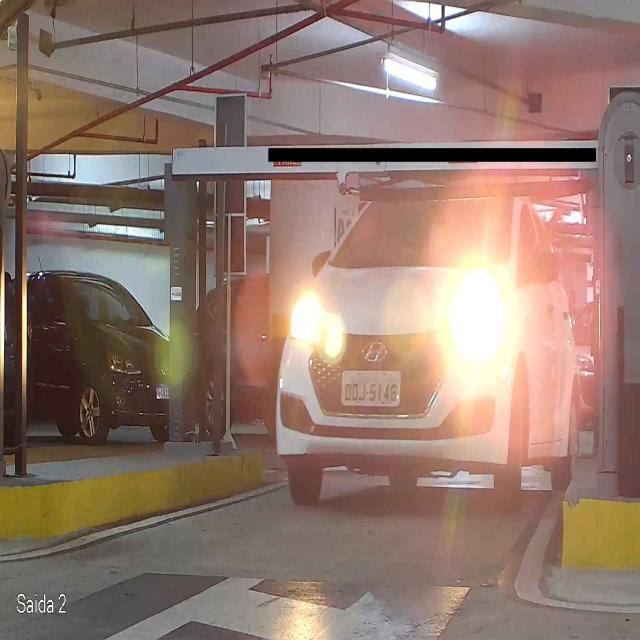old_plate: (340, 368, 402, 408)
